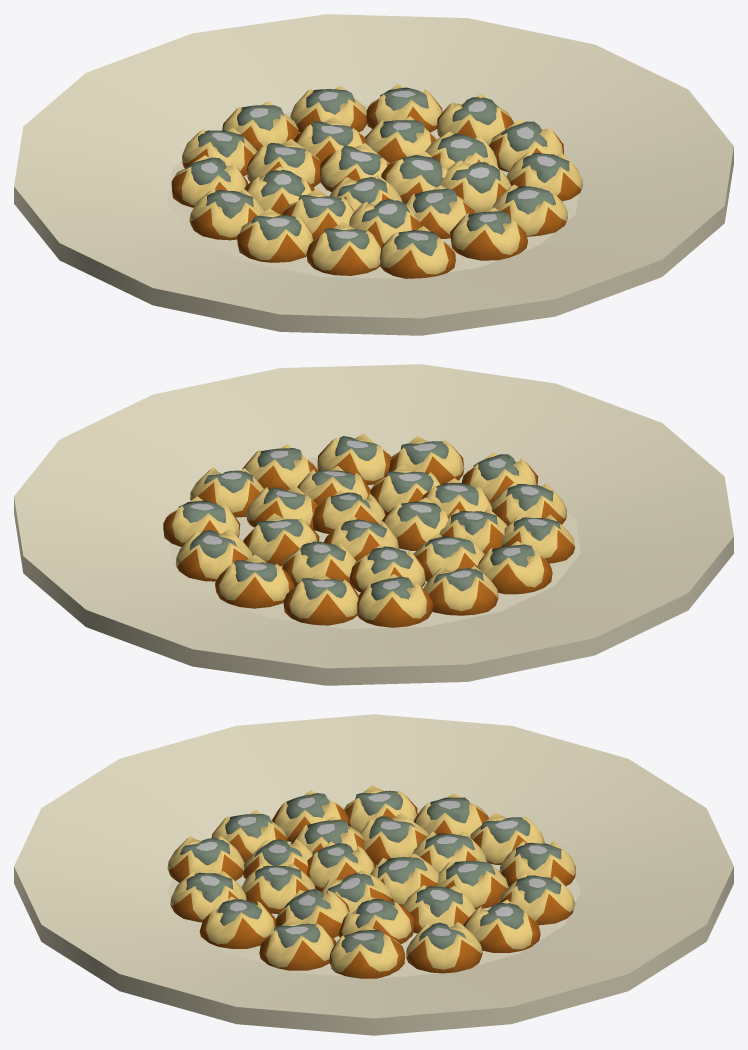
Rendered from SaintesMauresModel.fbx.
3 views of the same model, one above another, from view 1: azimuth 30°, elevation 25°; view 2: azimuth 150°, elevation 25°; view 3: azimuth 270°, elevation 25° (orthographic).
Parts seen in each view (by area): view 1: Sainte_Maure; view 2: Sainte_Maure; view 3: Sainte_Maure.
Part boxes in pixels (x1,y1,x2,y2): Sainte_Maure: (14,14,733,335); Sainte_Maure: (14,364,733,685); Sainte_Maure: (14,714,733,1035).
Bounding box in the file's own units: 0.6488 × 0.6488 × 0.0688.
